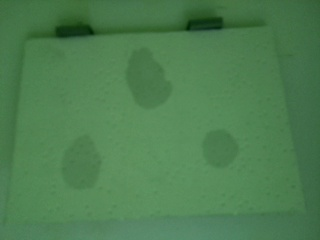Water_detected: (126, 50, 168, 109), (74, 133, 116, 180), (203, 128, 237, 166)
